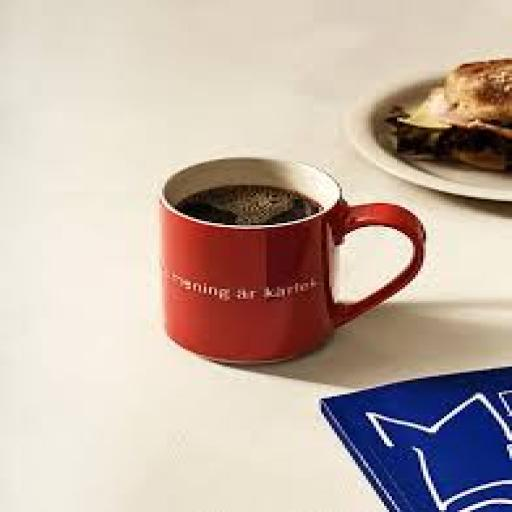red mug: (162, 158, 425, 362)
